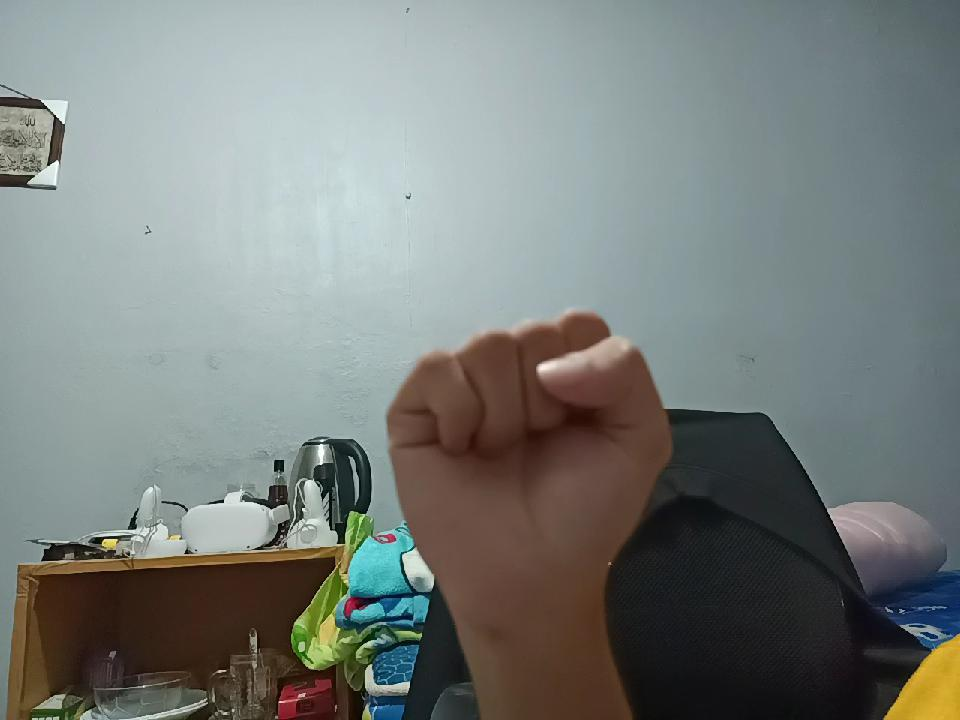rock: (398, 285, 652, 632)
